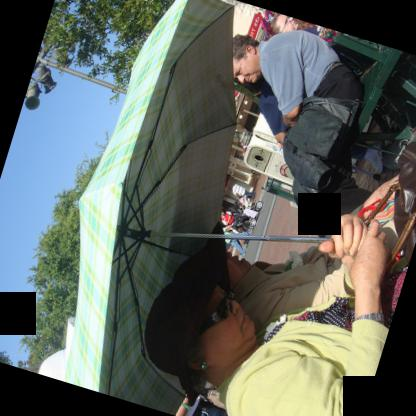handbag: (363, 135, 416, 269)
